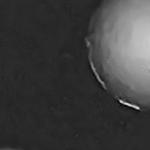colony: (81, 0, 150, 118)
